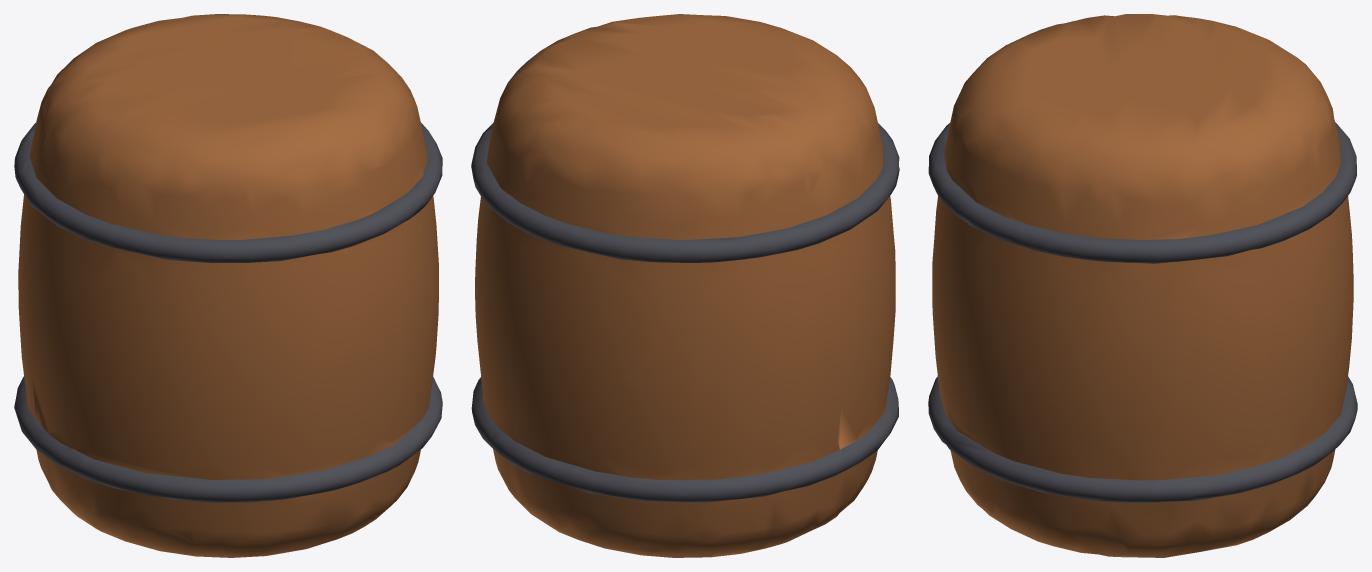
File: barrel.glb
3 renders of one model, left to right at view 1: azimuth 30°, elevation 25°; view 2: azimuth 150°, elevation 25°; view 3: azimuth 270°, elevation 25°, orthographic.
Parts seen in each view (by area): view 1: root; view 2: root; view 3: root.
Boxes of the visible parts, box(x1,y1,x2,y2) form: root: box(14, 14, 442, 557); root: box(471, 14, 899, 557); root: box(928, 14, 1357, 557).
Size of the model in its own units: 0.7134 by 0.79 by 0.715.
